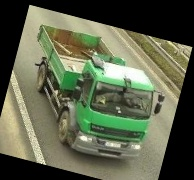truck: (11, 21, 175, 171)
